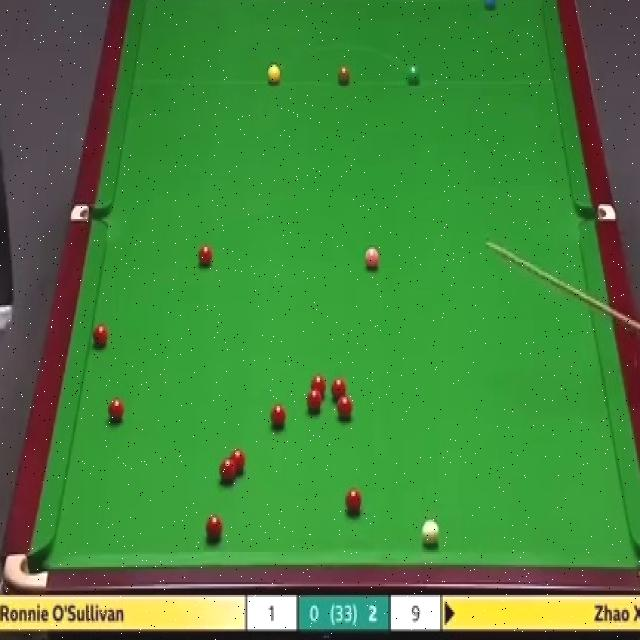blue-ball: (481, 0, 498, 13)
brown-ball: (337, 66, 352, 88)
green-ball: (406, 64, 421, 88)
pink-ball: (364, 245, 381, 272)
red-ball: (105, 394, 125, 426), (205, 514, 223, 544), (345, 488, 362, 518), (92, 324, 110, 352), (219, 457, 235, 486), (270, 406, 288, 431), (305, 390, 323, 414), (197, 241, 213, 268), (309, 375, 327, 397), (337, 395, 353, 419), (330, 378, 348, 399), (231, 449, 245, 475)
white-ball: (418, 515, 440, 545)
yellow-ball: (267, 64, 282, 86)
